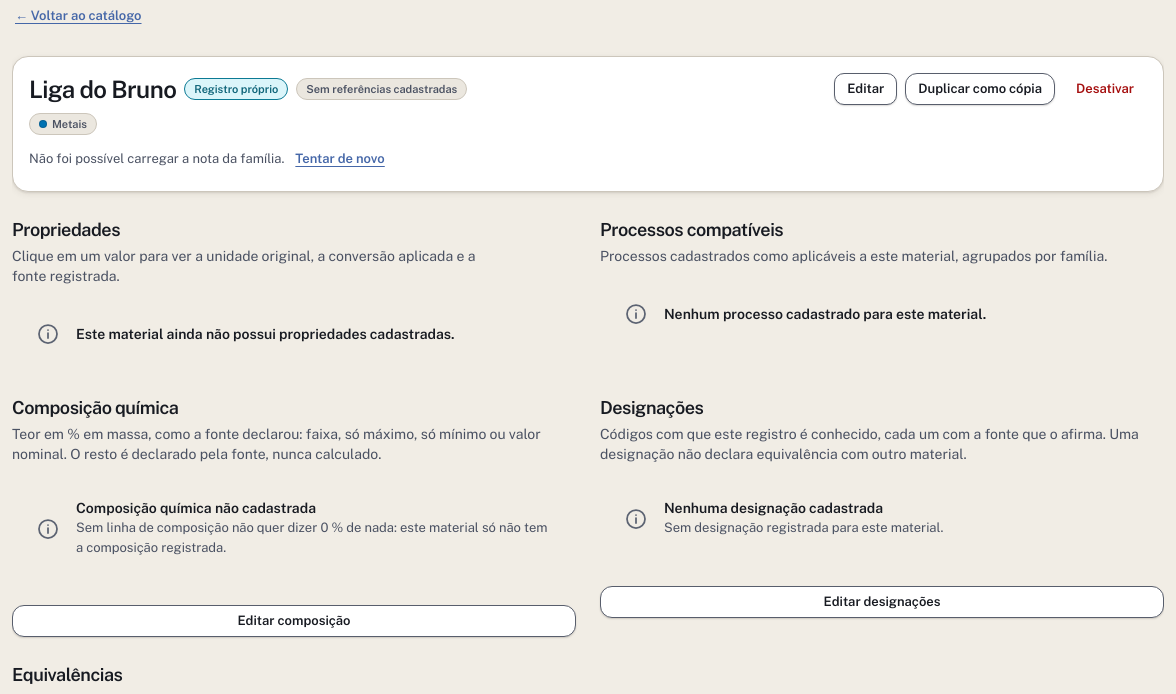
duplicar registro próprio (D-122) › says why when the server refuses, and stays on the record
Click the button "Duplicar como cópia" at (980, 89), box [905,73,1055,105]
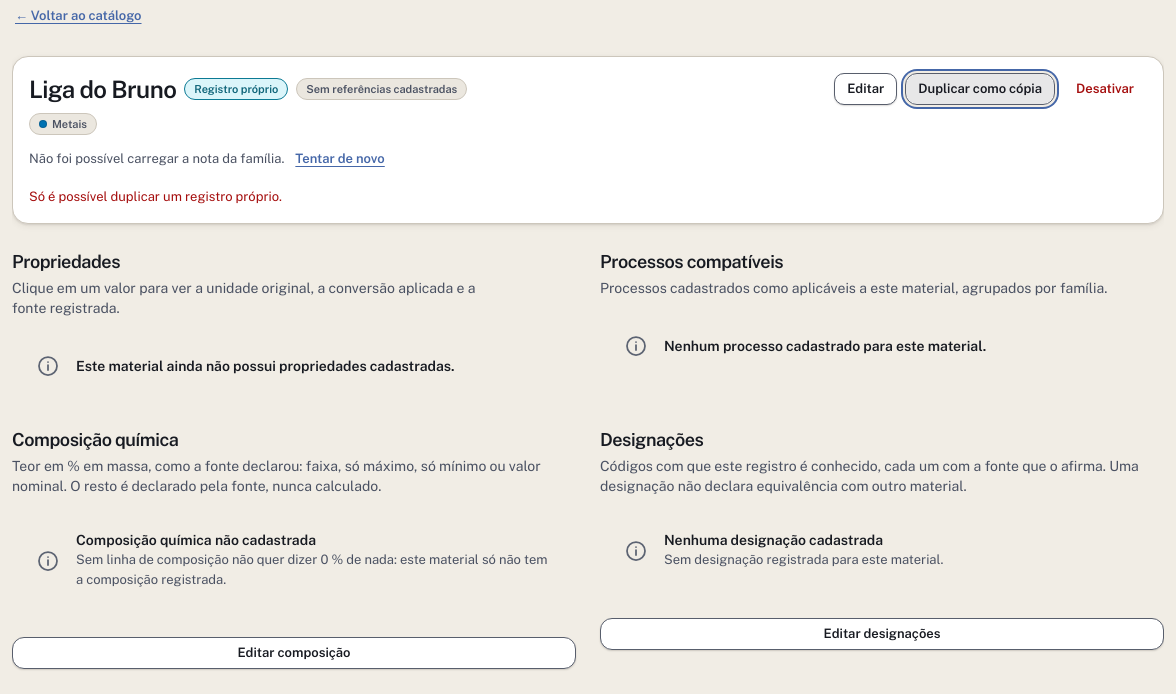
Now the message shows "duplicar um registro próprio", box [29,189,282,204]
